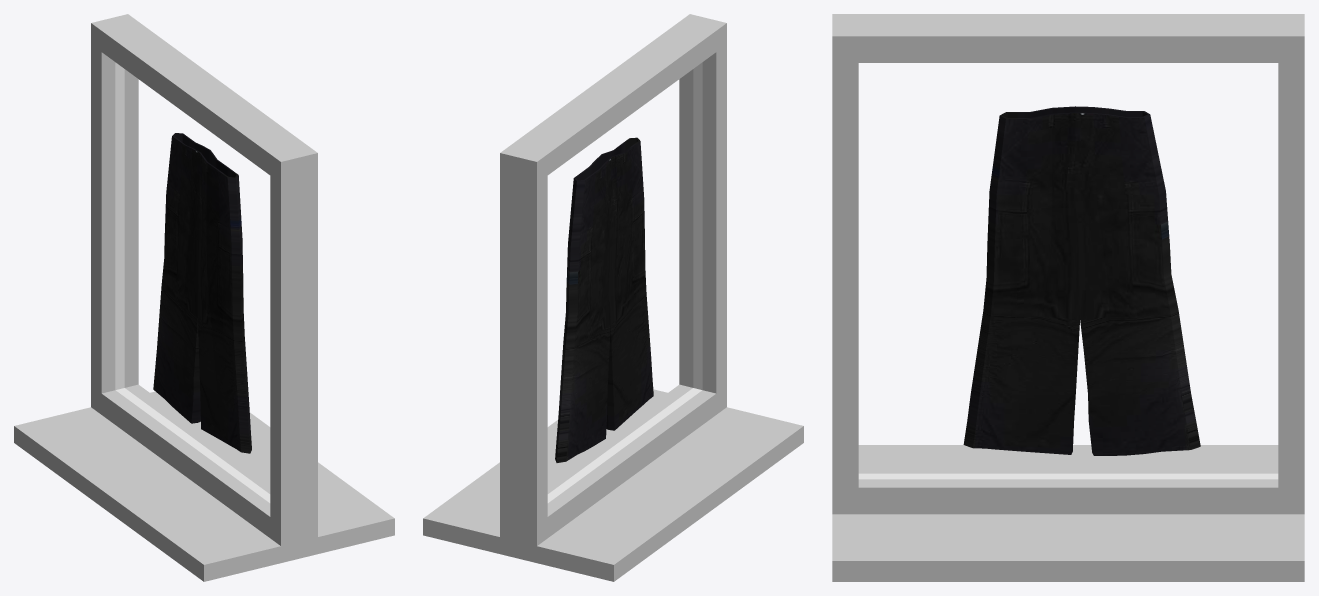
File: cargo_black.glb
The picture shows the model from 3 angles, left to right: view 1: azimuth 30°, elevation 25°; view 2: azimuth 150°, elevation 25°; view 3: azimuth 270°, elevation 25°; orthographic projection. The views are drawn at different scales.
Parts seen in each view (by area): view 1: Cube.019, Plane.023; view 2: Cube.019, Plane.023; view 3: Cube.019, Plane.023.
Part boxes in pixels (<box>): Cube.019: <box>14,14,394,581</box>; Plane.023: <box>153,133,251,453</box>; Cube.019: <box>423,14,803,581</box>; Plane.023: <box>555,137,653,462</box>; Cube.019: <box>832,14,1304,581</box>; Plane.023: <box>963,106,1200,455</box>.
Size of the model in its own units: 0.362 by 0.7276 by 0.6242.
Materials: 3 (1 with a texture image).
